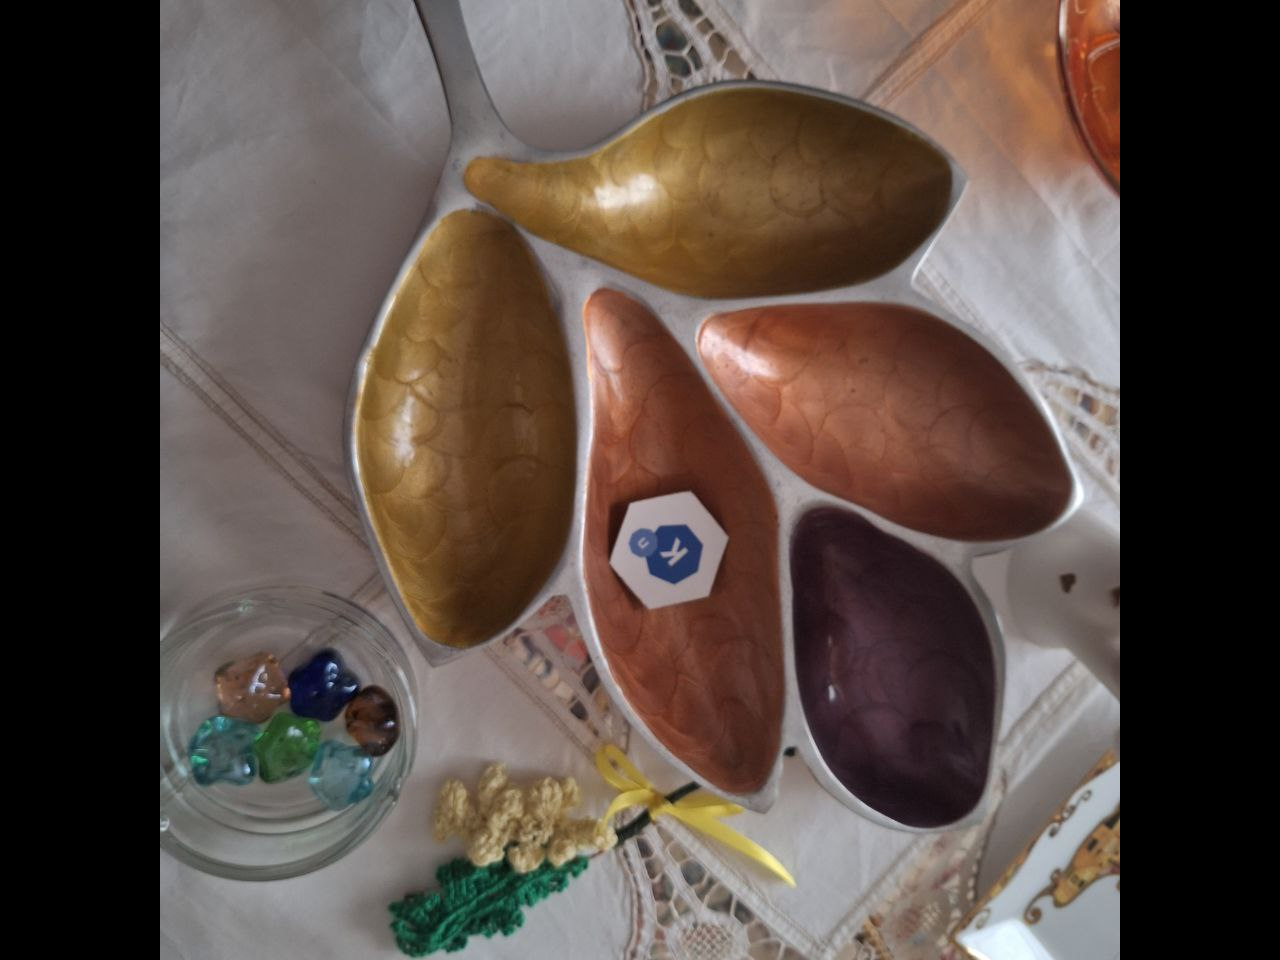knative: (627, 522, 703, 585)
